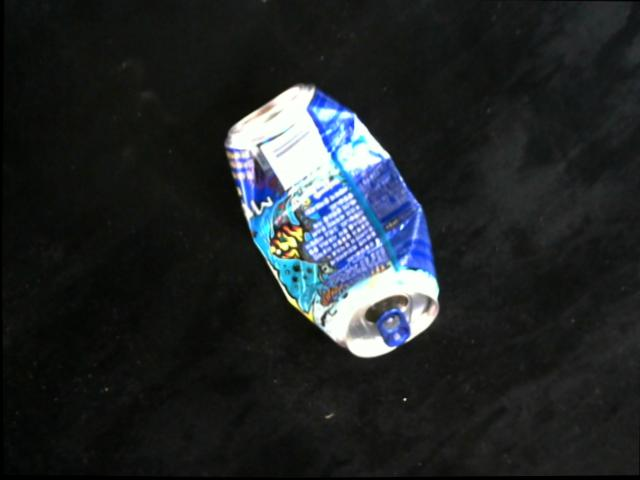can: (226, 82, 437, 362)
